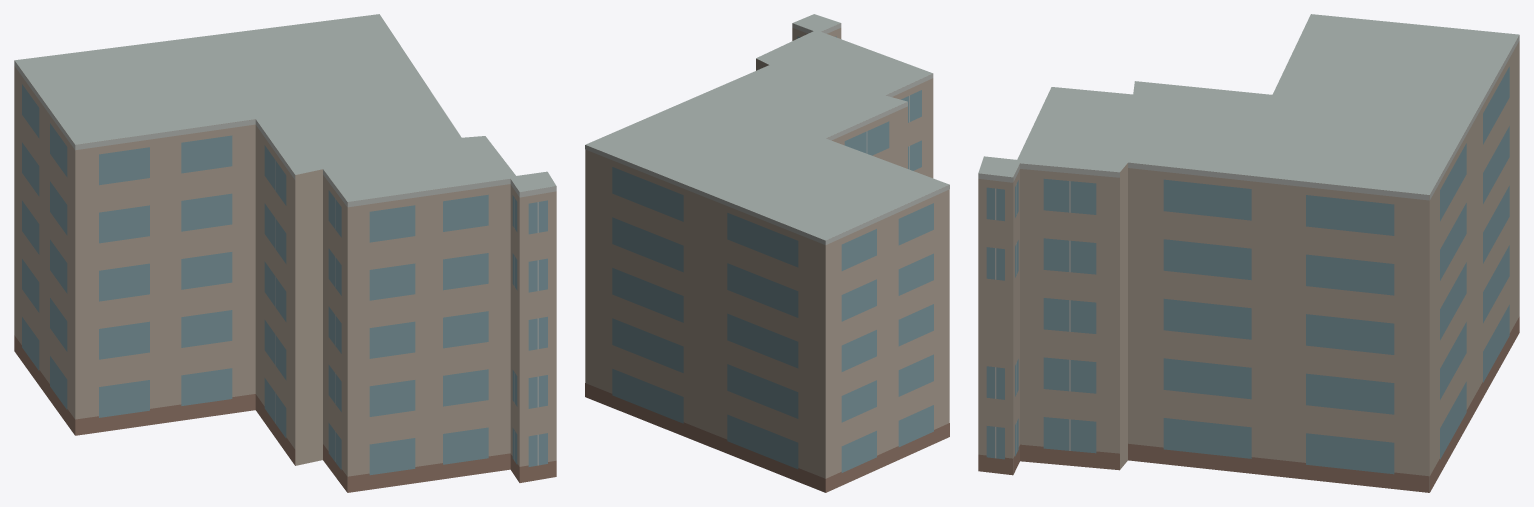
File: survey-upis-32988578.glb
3 renders of one model, left to right at view 1: azimuth 30°, elevation 25°; view 2: azimuth 150°, elevation 25°; view 3: azimuth 270°, elevation 25°, orthographic. The views are drawn at different scales.
Parts seen in each view (by area): view 1: survey-upis-32988578.tmp; view 2: survey-upis-32988578.tmp; view 3: survey-upis-32988578.tmp.
Boxes of the visible parts, x1,y1,x2,y2 form: survey-upis-32988578.tmp: (14, 14, 556, 492); survey-upis-32988578.tmp: (585, 14, 949, 492); survey-upis-32988578.tmp: (978, 14, 1519, 492).
Bounding box in the file's own units: 17.35 × 13.3 × 21.92.
